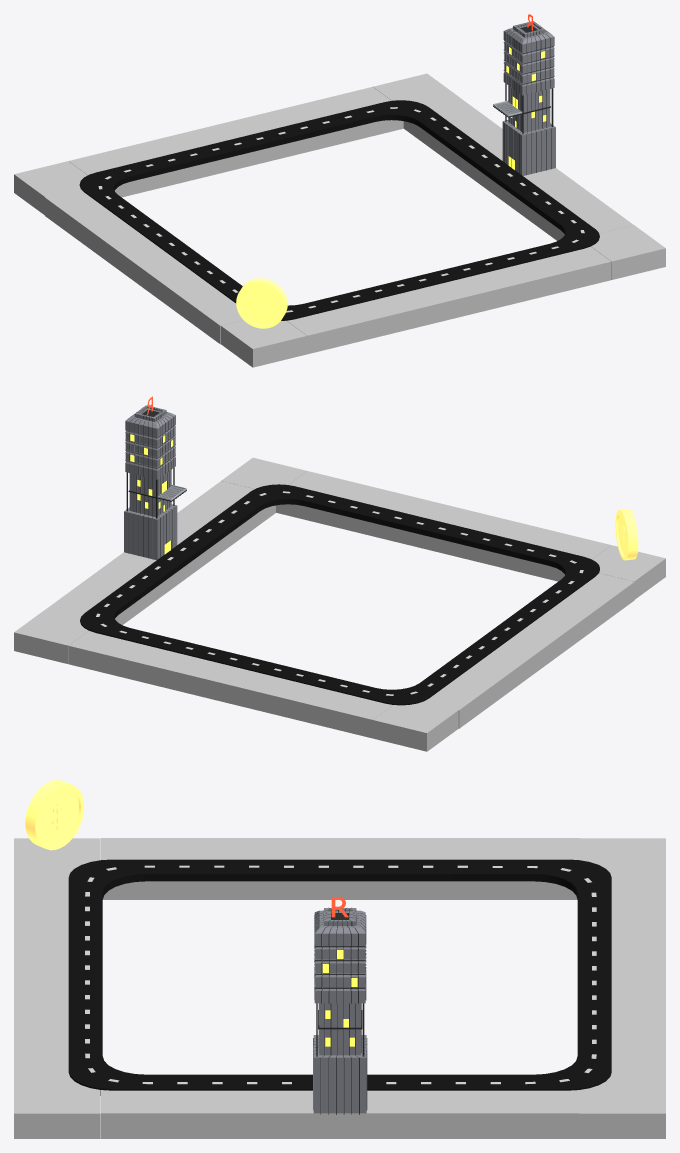
Rendered from progg.gltf.
The picture shows the model from 3 angles, top to bottom: view 1: azimuth 30°, elevation 25°; view 2: azimuth 150°, elevation 25°; view 3: azimuth 270°, elevation 25°; orthographic projection. The views are drawn at different scales.
Parts seen in each view (by area): view 1: Cube.005, Plane, Cube, Cylinder, Cube.006; view 2: Cube.005, Plane, Cube, Cylinder, Cube.006; view 3: Cube.005, Plane, Cube, Cylinder, Cube.006.
Part boxes in pixels (x1,y1,x2,y2): Cube.005: (14, 73, 665, 367); Plane: (79, 100, 599, 320); Cube: (493, 21, 555, 175); Cylinder: (236, 278, 287, 328); Cube.006: (98, 107, 584, 312); Cube.005: (14, 457, 665, 751); Plane: (80, 484, 599, 705); Cube: (124, 405, 186, 560); Cylinder: (615, 509, 638, 560); Cube.006: (96, 491, 583, 695); Cube.005: (14, 838, 665, 1138); Plane: (68, 859, 611, 1095); Cube: (313, 907, 367, 1114); Cylinder: (25, 780, 84, 850); Cube.006: (85, 865, 596, 1084).
Bounding box in the file's own units: 12.01 × 4.7 × 12.01.
